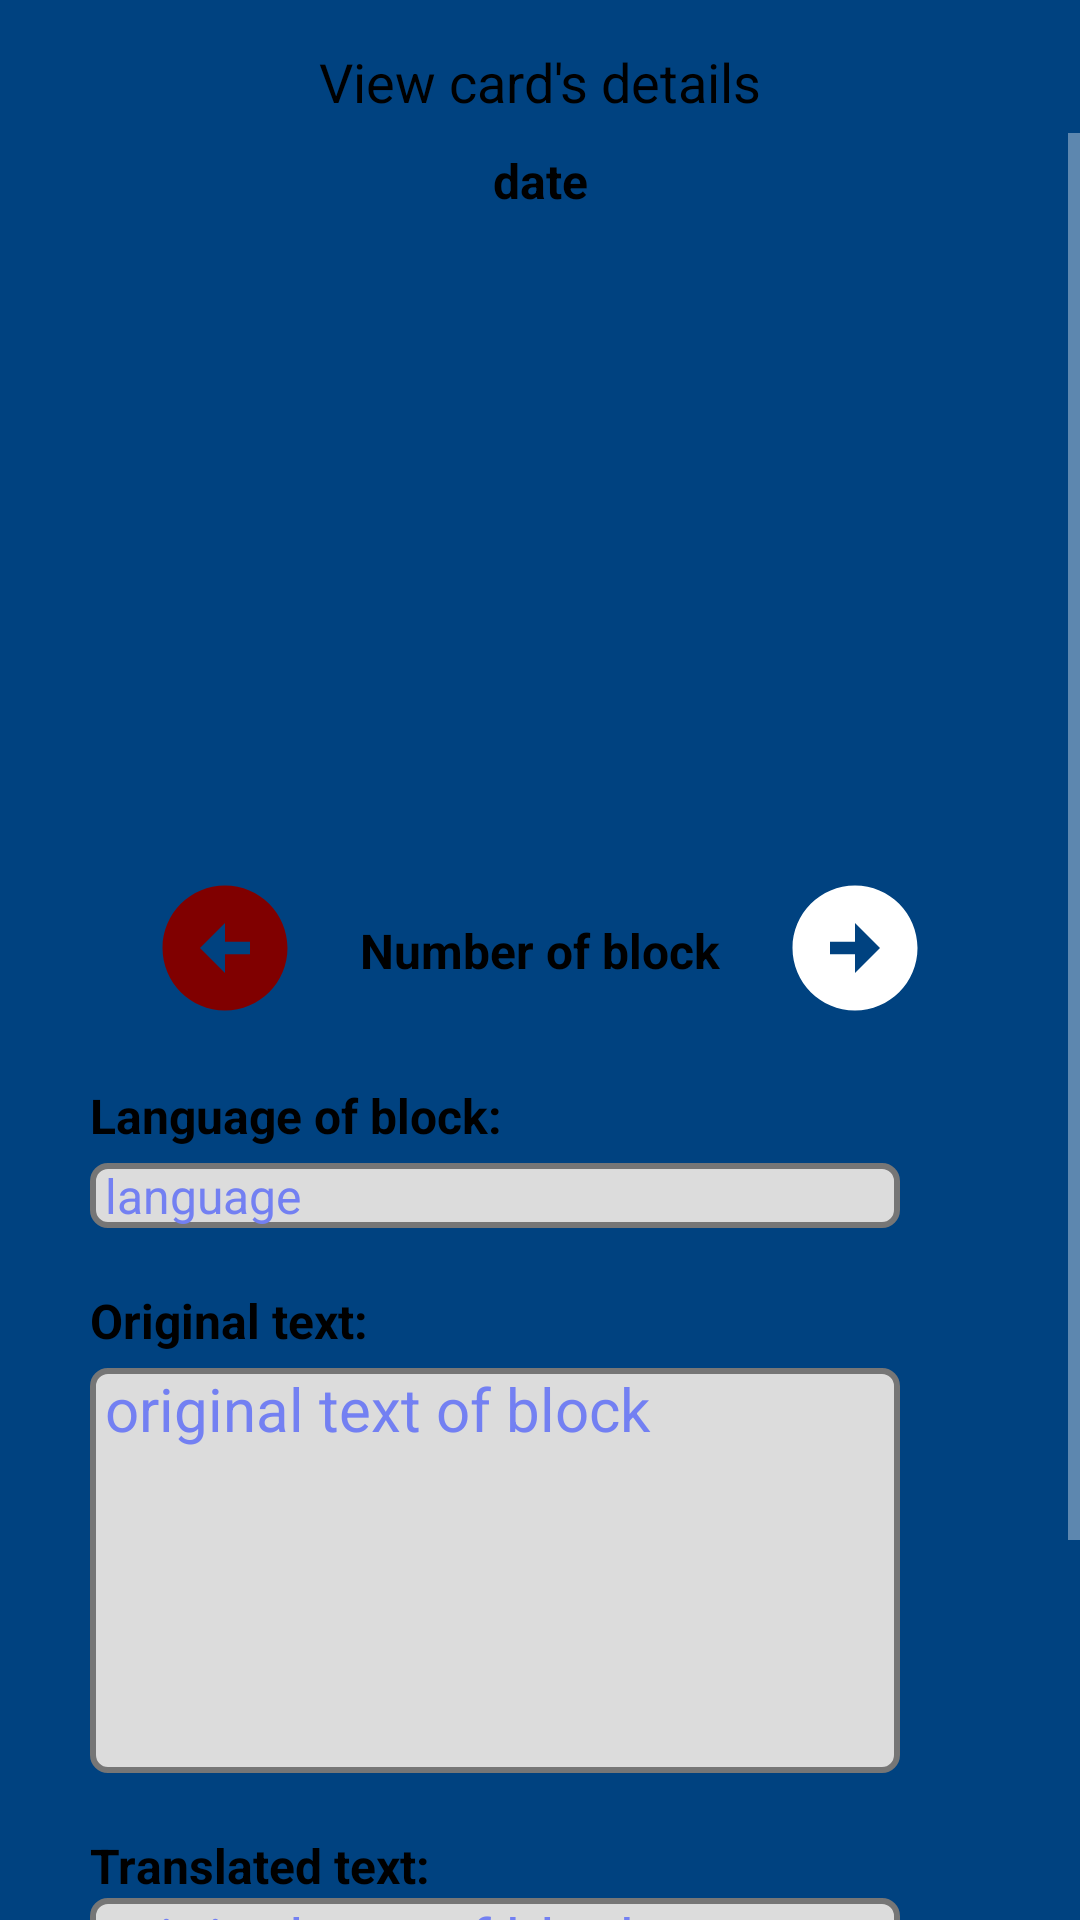

Icon click points for this 1080*1920 phone screenshot, format [x,y]:
arrow circle left: [225,948]
arrow circle right: [855,948]
